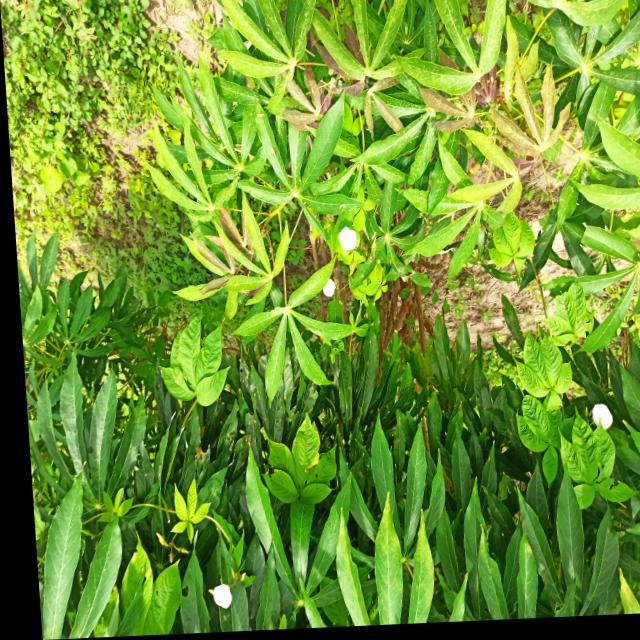Maleza: (0, 0, 155, 116), (4, 114, 143, 232), (512, 327, 574, 478), (256, 413, 343, 508), (561, 421, 639, 508), (155, 315, 226, 402), (485, 216, 543, 276), (545, 280, 596, 343), (176, 485, 213, 536)
Mosaico: (489, 70, 574, 153), (413, 82, 491, 131), (273, 67, 328, 120)
Mosca: (250, 110, 267, 123), (266, 143, 276, 159), (336, 198, 347, 212)
